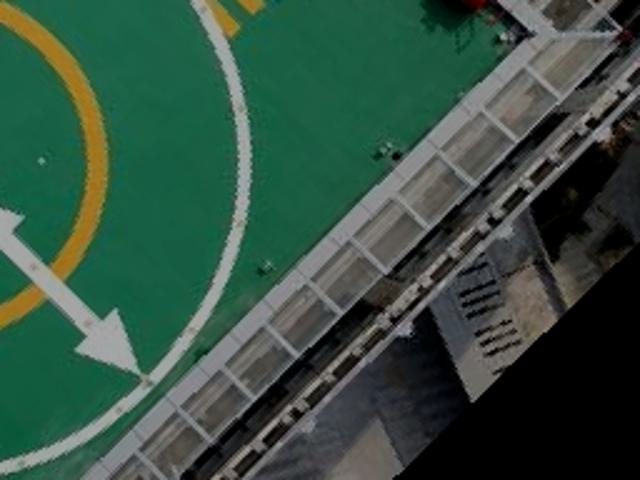Apron: (1, 1, 135, 343)
